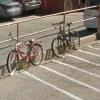Bicycle: (1, 20, 85, 74)
